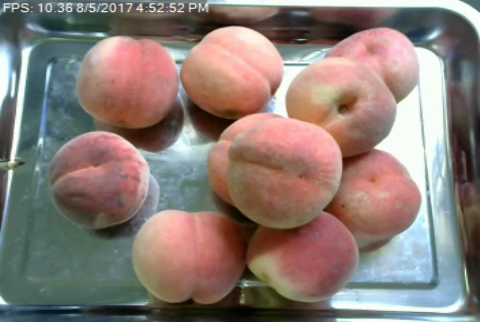Peach: (225, 123, 339, 227), (285, 57, 396, 156), (132, 211, 249, 303), (245, 213, 359, 302), (49, 131, 150, 229), (78, 36, 181, 128), (182, 25, 283, 118), (328, 147, 420, 240), (324, 27, 419, 105)
